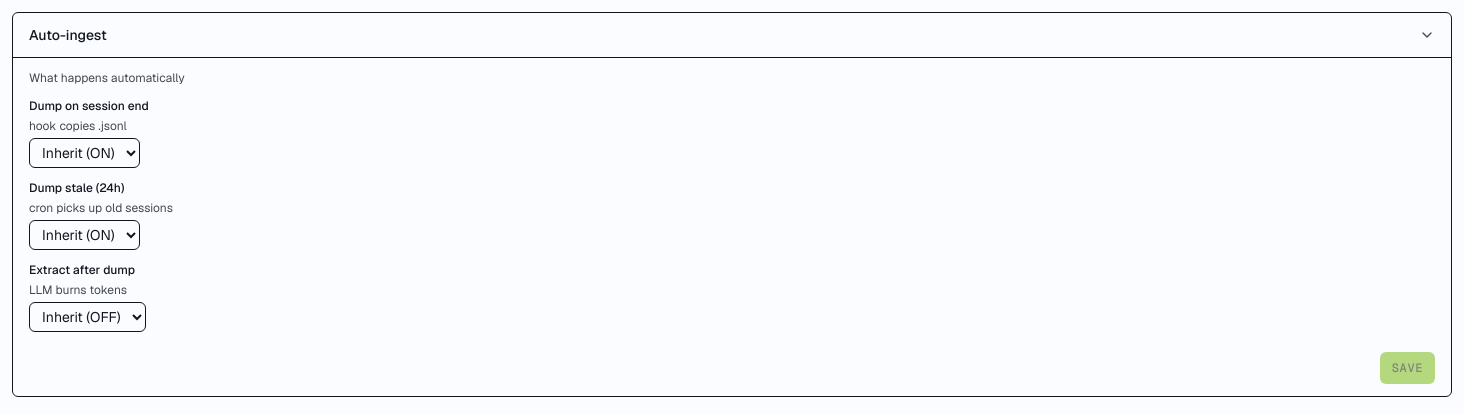
AutoIngestSection › force OFF dump_on_session_end → PATCH body contains explicit false
The image size is (1464, 414).
Later steps or results of the test are not shown.
Expected: the text "Auto-ingest" is shown, [29,25,107,45]
Select "Force OFF" in the dropdown below "hook copies .jsonl" at coordinates (84, 153), box [29,138,140,168]
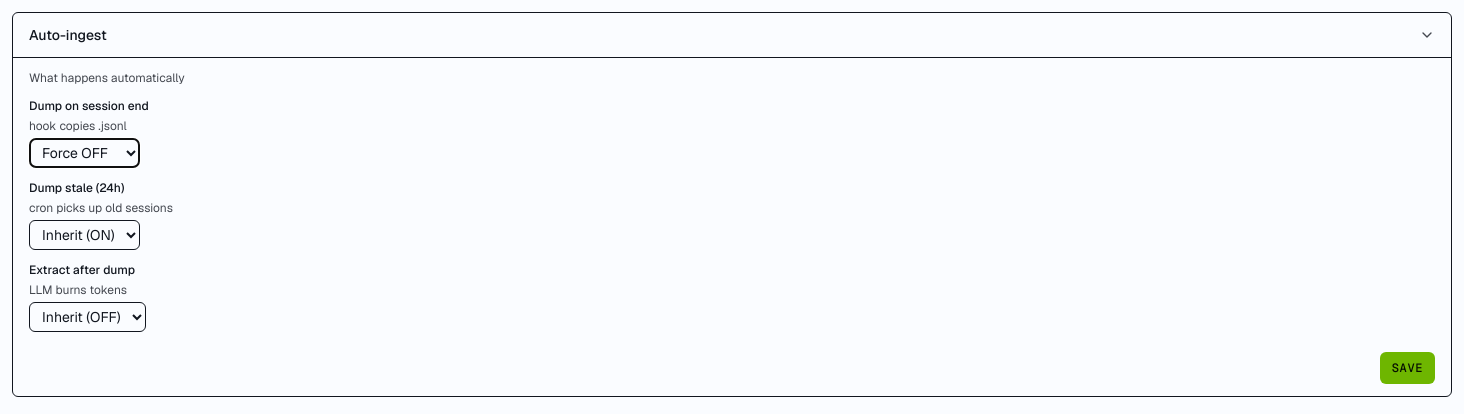
Expected: the button "Save" is enabled, [1380,352,1435,384]
